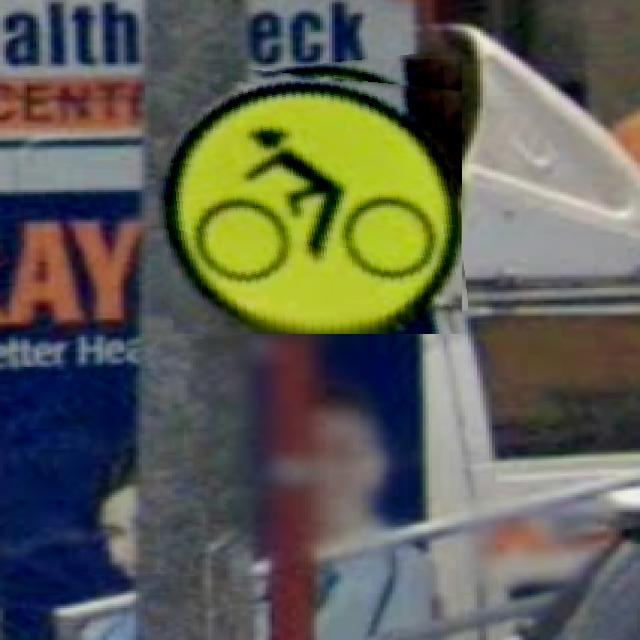bike lane: (151, 59, 462, 334)
